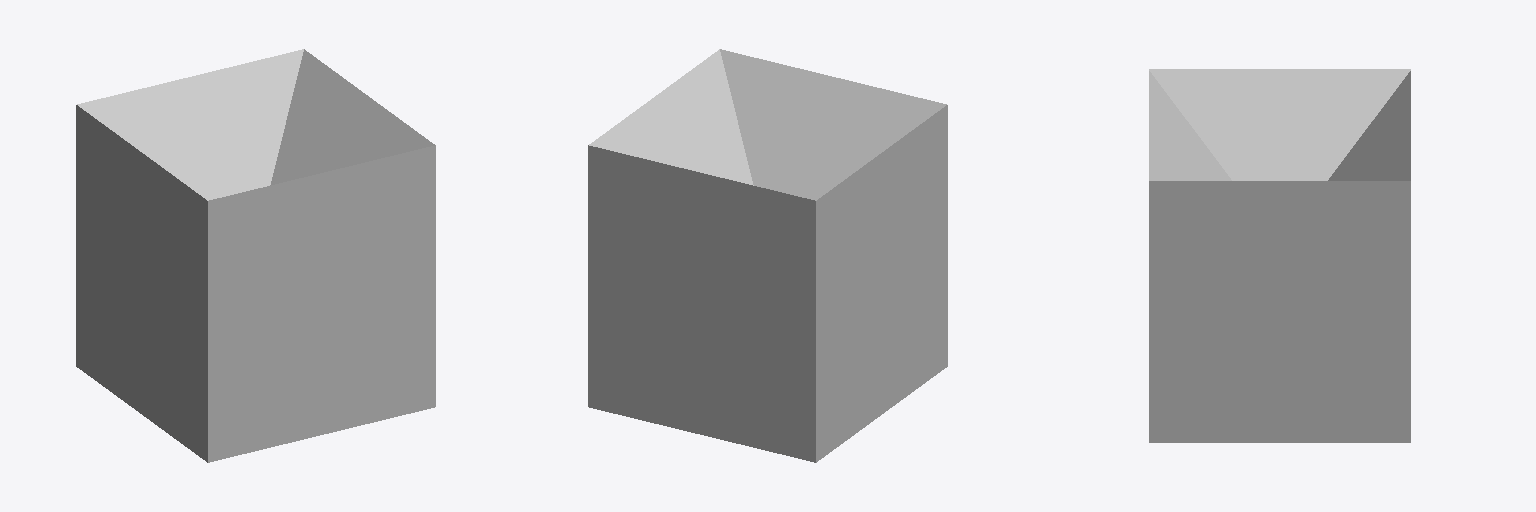
The picture shows the model from 3 angles: view 1: azimuth 30°, elevation 25°; view 2: azimuth 150°, elevation 25°; view 3: azimuth 270°, elevation 25°; orthographic projection.
Parts seen in each view (by area): view 1: cube2; view 2: cube2; view 3: cube2.
Boxes of the visible parts, x1=… form: cube2: x1=76, y1=49, x2=435, y2=462; cube2: x1=588, y1=49, x2=947, y2=462; cube2: x1=1149, y1=69, x2=1410, y2=442.
Size of the model in its own units: 1 by 1.1 by 1.